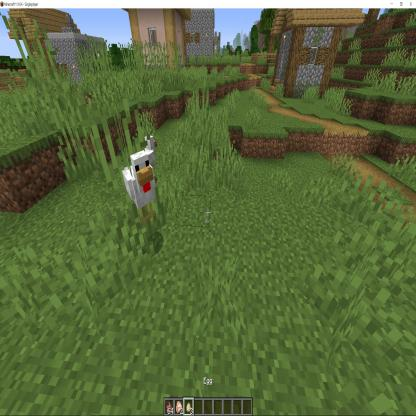minecraft-pigs: (122, 152, 162, 224), (137, 136, 159, 168)
